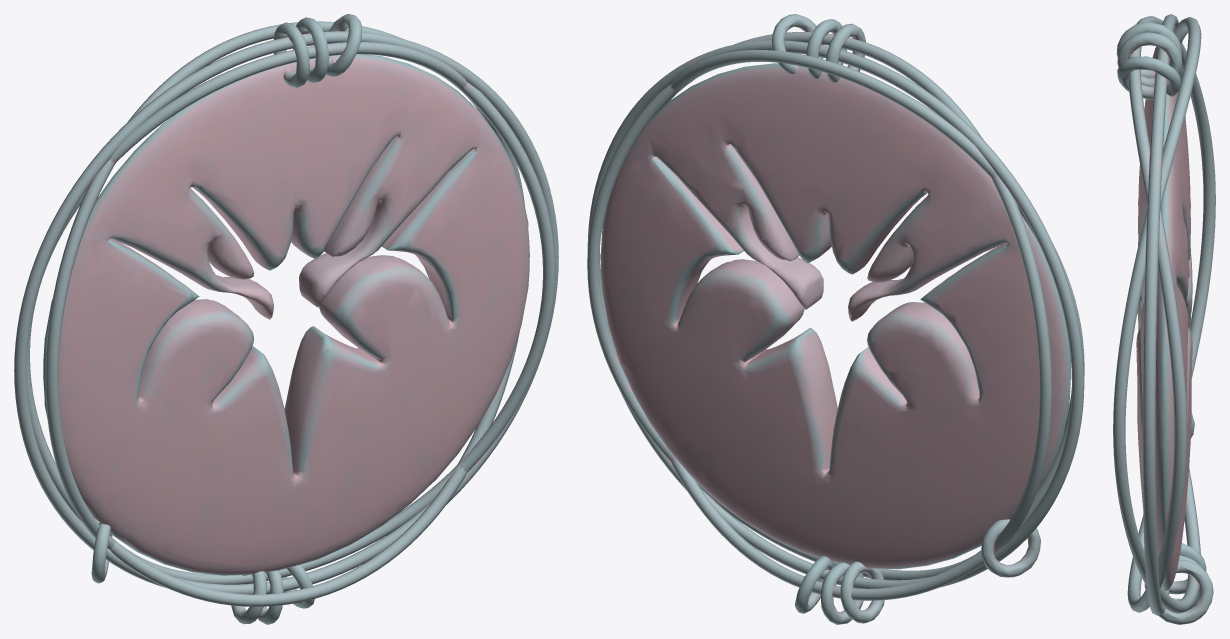
File: sigil.glb
3 renders of one model, left to right at view 1: azimuth 30°, elevation 25°; view 2: azimuth 150°, elevation 25°; view 3: azimuth 270°, elevation 25°, orthographic. The views are drawn at different scales.
Parts seen in each view (by area): view 1: ring_low, band_low, bangles_low; view 2: ring_low, band_low, bangles_low; view 3: band_low, ring_low, bangles_low.
Boxes of the visible parts, box(x1,y1,x2,y2) form: ring_low: box(43, 54, 529, 575); band_low: box(14, 21, 558, 606); bangles_low: box(91, 14, 361, 624); ring_low: box(600, 63, 1070, 569); band_low: box(587, 32, 1084, 600); bangles_low: box(772, 14, 1040, 624); band_low: box(1113, 14, 1215, 615); ring_low: box(1136, 46, 1192, 591); bangles_low: box(1116, 22, 1213, 624).
Size of the model in its own units: 204 by 223 by 34.93.
Materials: 2 (2 with a texture image).
